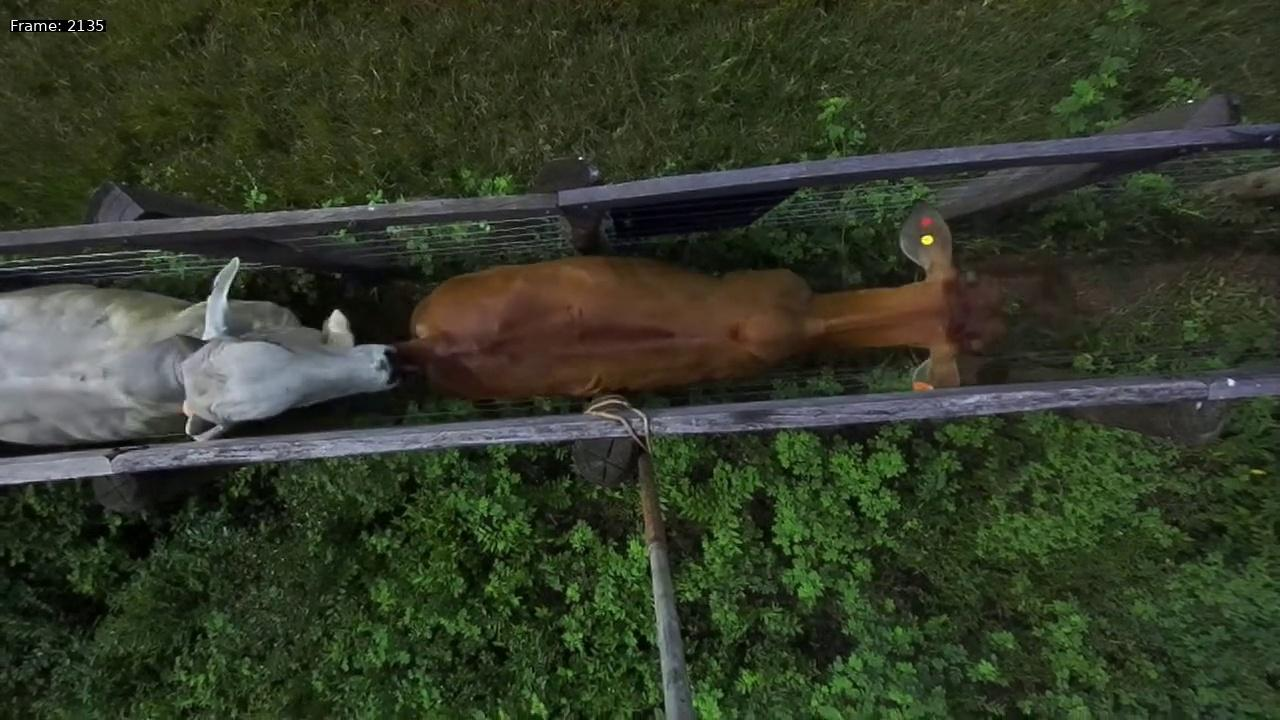cattle: (387, 187, 1027, 410)
